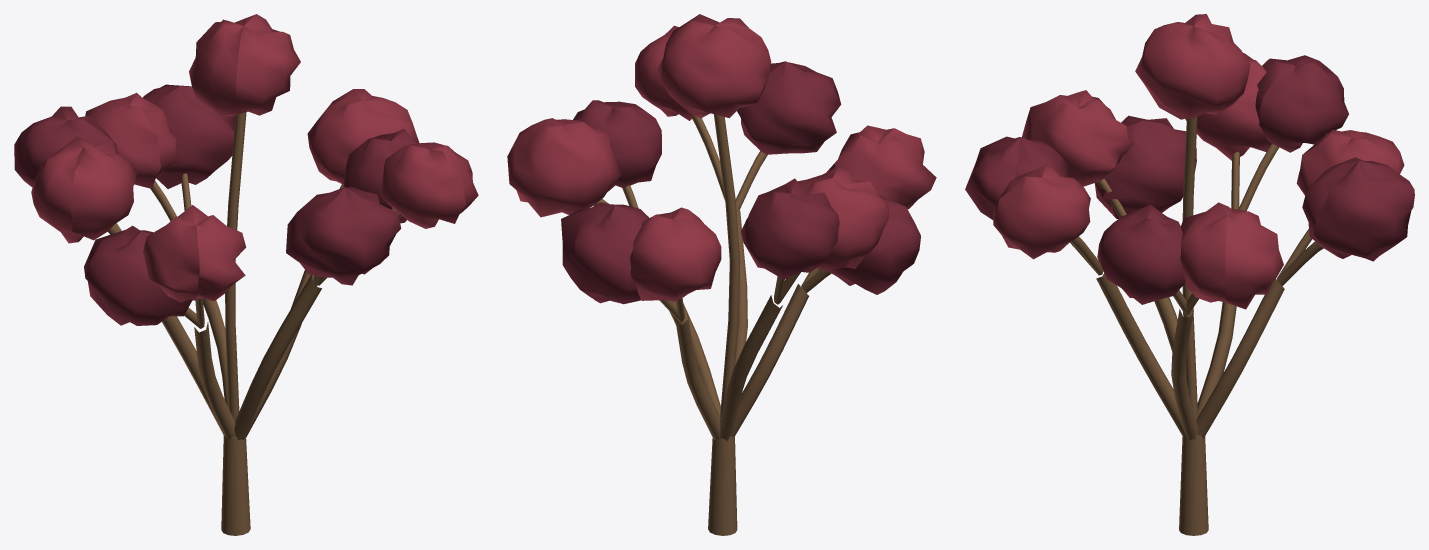
The model's file is acer-fireglow.glb.
3 views of the same model, side by side, from view 1: azimuth 30°, elevation 25°; view 2: azimuth 150°, elevation 25°; view 3: azimuth 270°, elevation 25° (orthographic).
Parts seen in each view (by area): view 1: korona-11, korona-6, korona-9, korona-7, korona-5, korona-8, korona-2, korona-3, korona-1, korona-10, vazag-3, vezerag (+6 smaller); view 2: korona-11, korona-3, korona-10, korona-6, korona-1, korona-2, korona-7, korona-9, korona-4, korona-8, vezerag, torzs (+8 smaller); view 3: korona-2, korona-11, korona-3, korona-10, korona-5, korona-4, korona-7, korona-8, korona-6, korona-9, korona-1, vazag-1 (+8 smaller).
Boxes of the visible parts, x1,y1,x2,y2 form: korona-11: [189, 14, 300, 116]; korona-6: [286, 186, 401, 285]; korona-9: [31, 136, 136, 243]; korona-7: [143, 205, 246, 302]; korona-5: [380, 142, 478, 228]; korona-8: [84, 225, 192, 325]; korona-2: [143, 84, 235, 188]; korona-3: [307, 89, 419, 183]; korona-1: [85, 92, 178, 188]; korona-10: [14, 106, 118, 187]; vazag-3: [234, 275, 321, 440]; vezerag: [225, 112, 246, 421]; korona-11: [656, 14, 771, 118]; korona-3: [507, 118, 621, 217]; korona-10: [741, 178, 839, 279]; korona-6: [737, 61, 841, 154]; korona-1: [630, 207, 721, 301]; korona-2: [561, 202, 648, 304]; korona-7: [826, 125, 936, 209]; korona-9: [798, 166, 889, 270]; korona-4: [573, 100, 661, 191]; korona-8: [826, 194, 920, 294]; vezerag: [713, 114, 740, 416]; torzs: [708, 436, 737, 535]; korona-2: [1302, 157, 1414, 261]; korona-11: [1135, 14, 1250, 119]; korona-3: [1180, 202, 1283, 309]; korona-10: [1255, 55, 1348, 152]; korona-5: [993, 163, 1090, 259]; korona-4: [1097, 204, 1185, 304]; korona-7: [1022, 90, 1134, 186]; korona-8: [1094, 115, 1196, 218]; korona-6: [965, 136, 1069, 219]; korona-9: [1185, 53, 1271, 160]; korona-1: [1296, 129, 1404, 195]; vazag-1: [1196, 279, 1284, 438].
Size of the model in its own units: 2.68 by 3.5 by 2.78.
